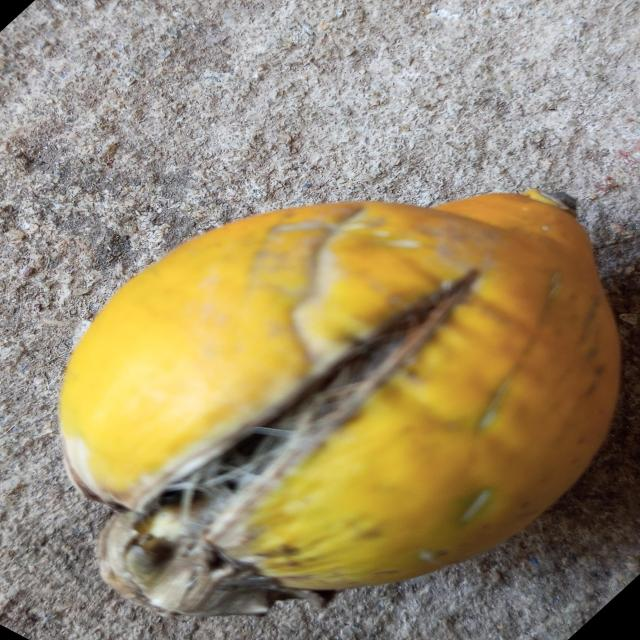damaged: (58, 189, 624, 620)
